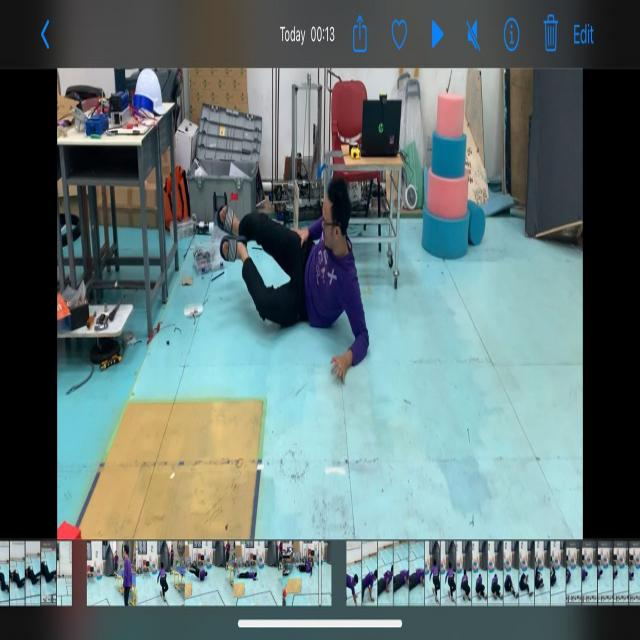Fall-Detected: (216, 158, 382, 384)
